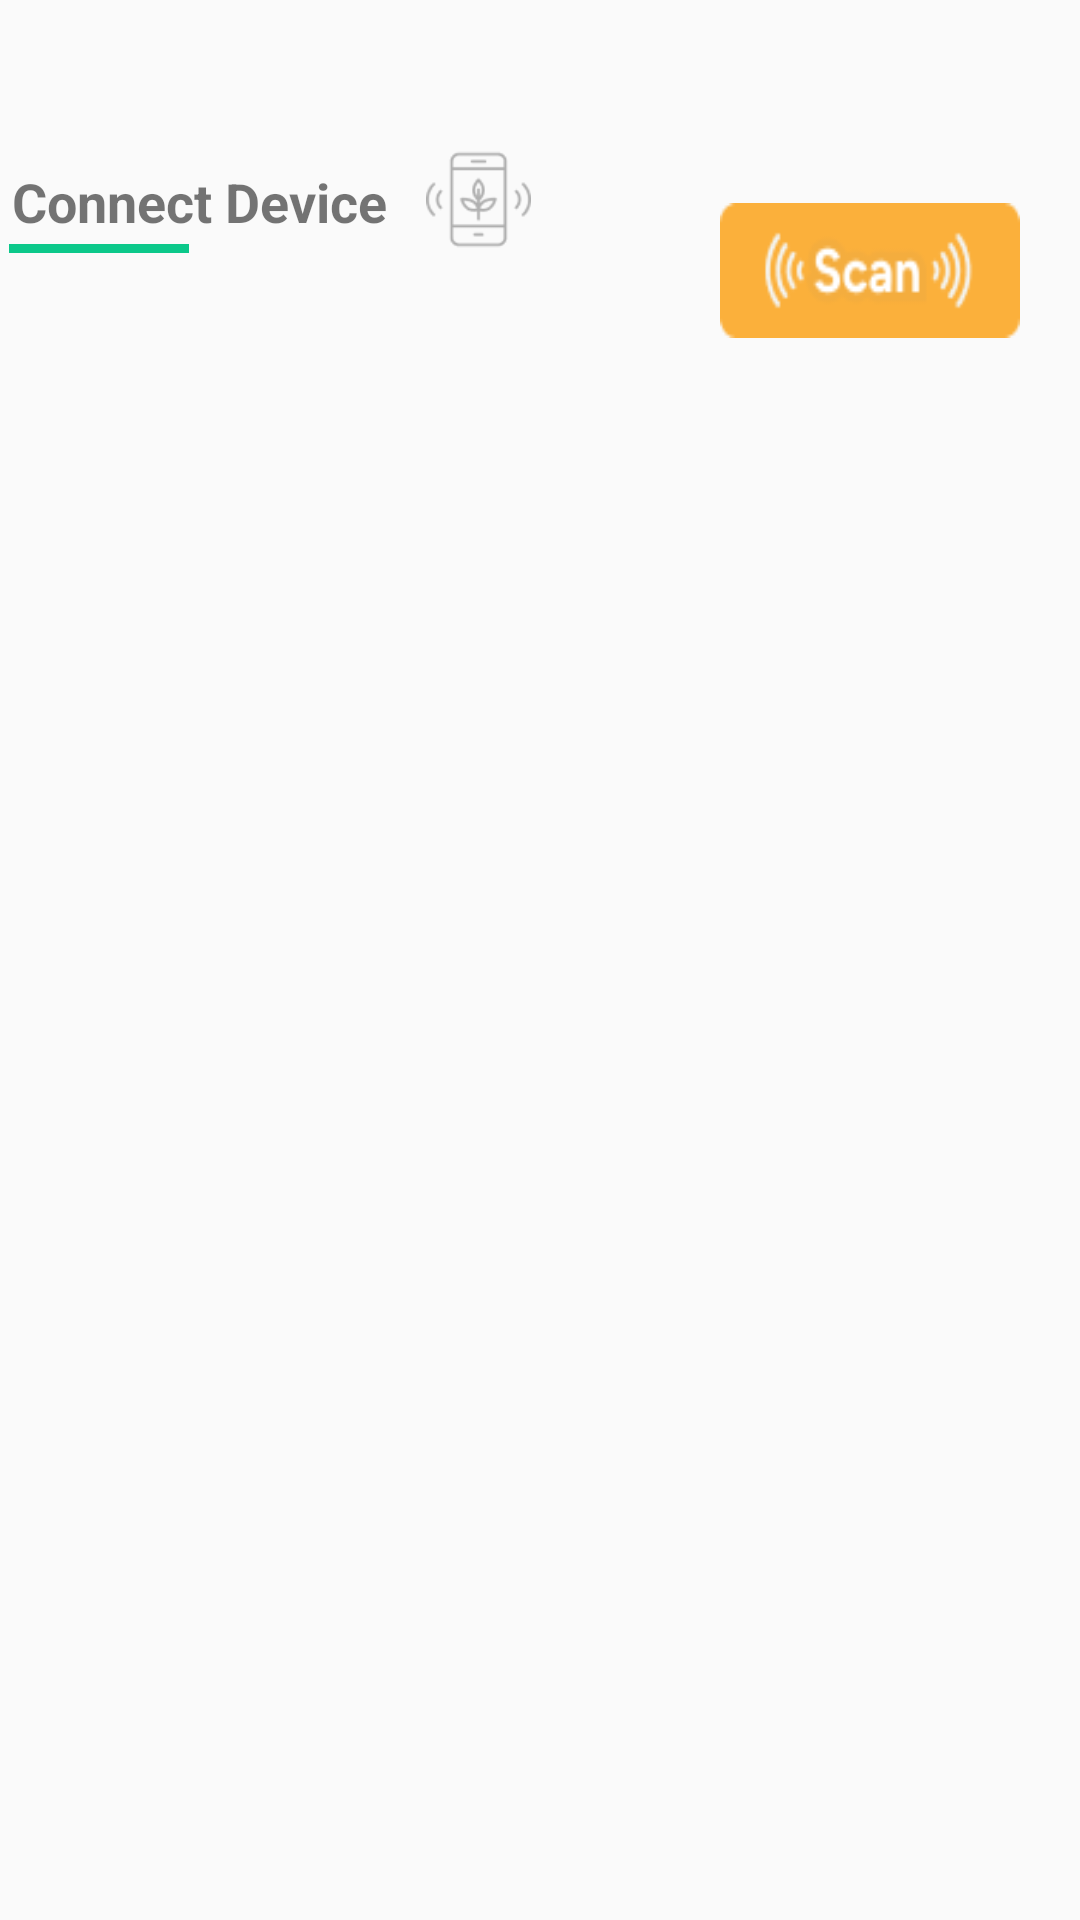

Point at icon controls on the screen. Image size 1080 x 1920, points as point (x, y).
phone: point (478, 199)
